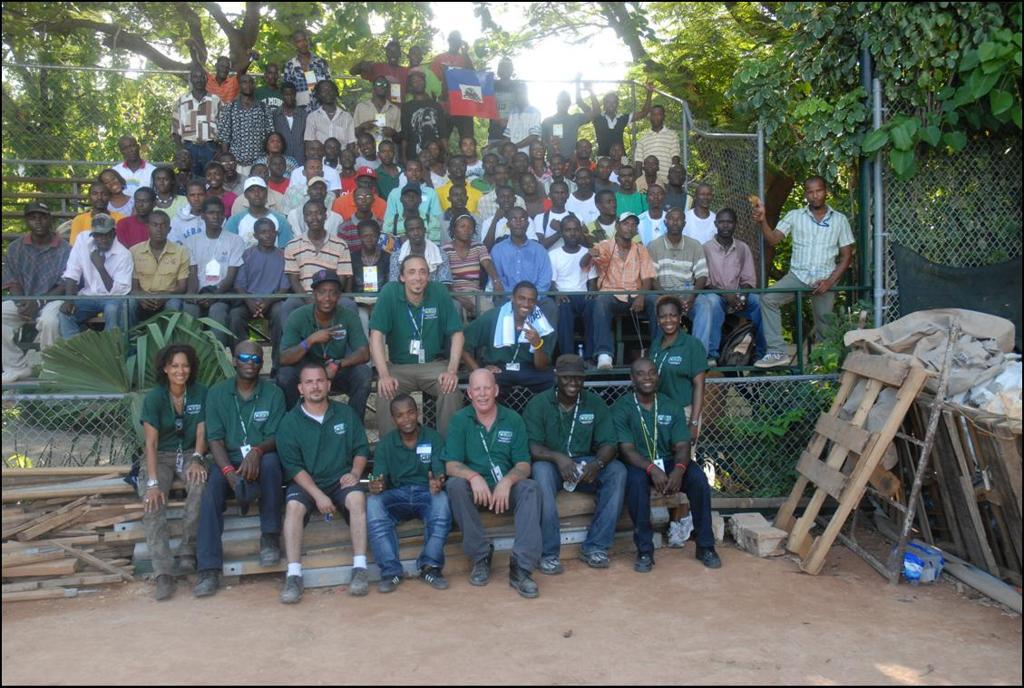face: (471, 377, 495, 411), (237, 349, 262, 379), (405, 261, 428, 293), (559, 370, 584, 398), (303, 374, 328, 401), (634, 368, 658, 394), (316, 285, 338, 313), (394, 406, 416, 434), (27, 210, 50, 236), (169, 359, 191, 385), (658, 310, 678, 334), (515, 293, 535, 316), (306, 207, 325, 231), (150, 218, 169, 242), (94, 227, 113, 251), (807, 185, 825, 208), (103, 173, 122, 194), (510, 215, 528, 237), (408, 223, 426, 245), (248, 183, 266, 205), (206, 206, 223, 229), (718, 216, 735, 239), (188, 188, 205, 210), (91, 189, 109, 209), (620, 220, 638, 240), (563, 225, 581, 245), (356, 193, 374, 212), (257, 227, 274, 247), (362, 231, 379, 251), (122, 142, 139, 162), (135, 195, 152, 215), (206, 167, 222, 188), (668, 214, 684, 235), (254, 168, 270, 189), (451, 190, 467, 210), (155, 171, 170, 192), (404, 192, 420, 211), (458, 222, 474, 240), (601, 198, 617, 216), (306, 164, 322, 182), (358, 177, 374, 194), (221, 158, 236, 176), (553, 189, 568, 207), (577, 175, 592, 193), (649, 191, 665, 207), (320, 86, 335, 103), (407, 167, 422, 184), (698, 191, 713, 208), (500, 194, 514, 212), (296, 36, 310, 54), (177, 152, 191, 170), (450, 161, 465, 177), (381, 148, 395, 165), (312, 186, 326, 203), (522, 179, 537, 194), (485, 159, 499, 175), (360, 140, 374, 156), (192, 73, 205, 90), (673, 169, 686, 186), (241, 79, 255, 94), (621, 173, 634, 189), (599, 163, 612, 179), (551, 161, 564, 177), (495, 170, 508, 186), (310, 146, 323, 162), (269, 139, 283, 153), (515, 158, 528, 173), (271, 161, 284, 176), (463, 142, 476, 157), (412, 78, 425, 93), (605, 99, 618, 114), (501, 64, 514, 79), (376, 80, 388, 96), (421, 154, 433, 170), (342, 154, 355, 168), (645, 160, 658, 174), (389, 48, 401, 63), (652, 110, 662, 127), (577, 145, 590, 158), (532, 145, 545, 158), (504, 148, 517, 161), (327, 144, 339, 158), (284, 91, 296, 105), (428, 146, 440, 160), (515, 92, 527, 106), (268, 69, 279, 84), (559, 97, 570, 112), (411, 51, 422, 65), (219, 63, 229, 78), (452, 36, 462, 51), (612, 147, 622, 160)
